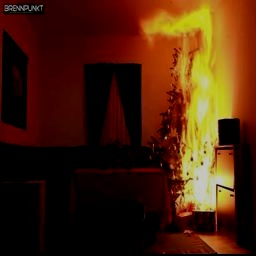fire: (134, 0, 250, 223)
